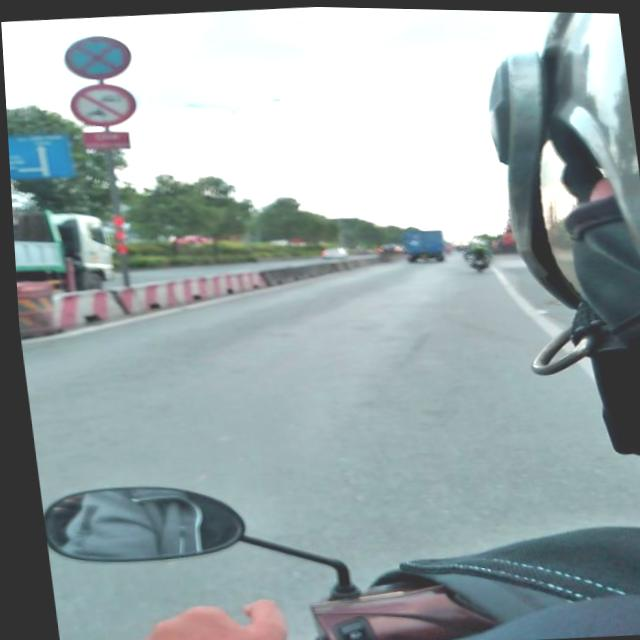Cam dung xe va do xe: (60, 33, 134, 82)
